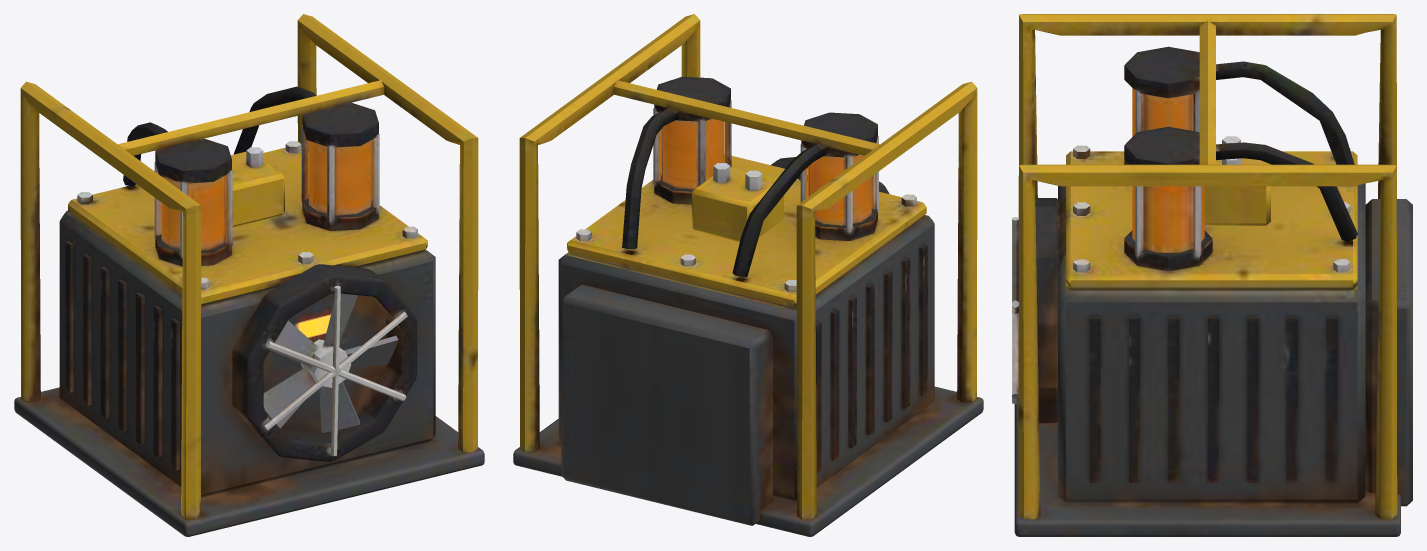
Rendered from R4X_Battery_LOD1.glb.
3 views of the same model, side by side, from view 1: azimuth 30°, elevation 25°; view 2: azimuth 150°, elevation 25°; view 3: azimuth 270°, elevation 25° (orthographic). The views are drawn at different scales.
Visible parts, largest first — view 1: R4X_Battery_LOD1; view 2: R4X_Battery_LOD1; view 3: R4X_Battery_LOD1.
Boxes of the visible parts, x1,y1,x2,y2 form: R4X_Battery_LOD1: (14,14,484,536); R4X_Battery_LOD1: (513,14,983,536); R4X_Battery_LOD1: (1012,14,1412,536).
Bounding box in the file's own units: 0.49 × 0.5137 × 0.5083.
Materials: 4 (4 with a texture image).
